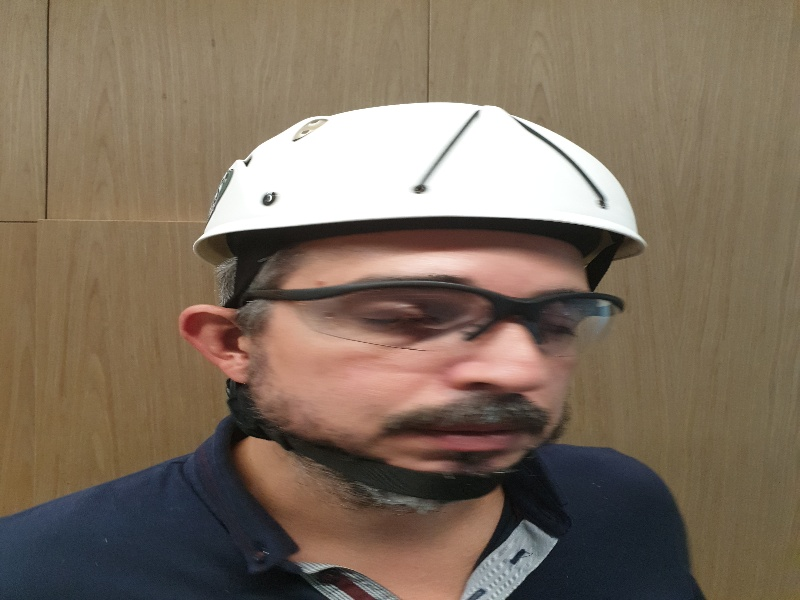Baret: (182, 102, 648, 248)
Gozluk: (207, 279, 629, 363)
